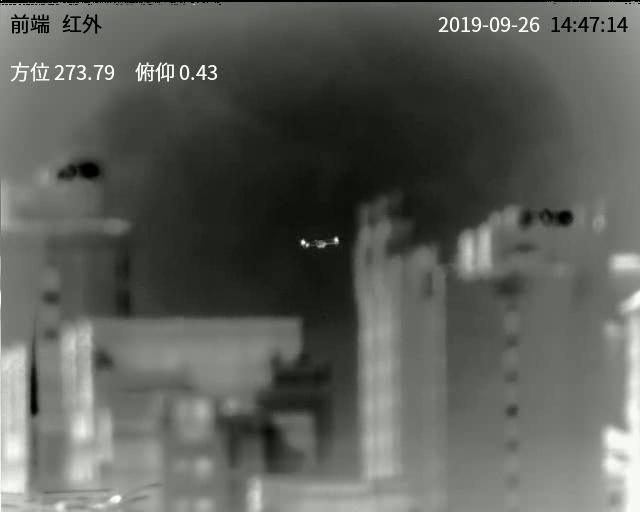DRONE: (299, 234, 339, 249)
